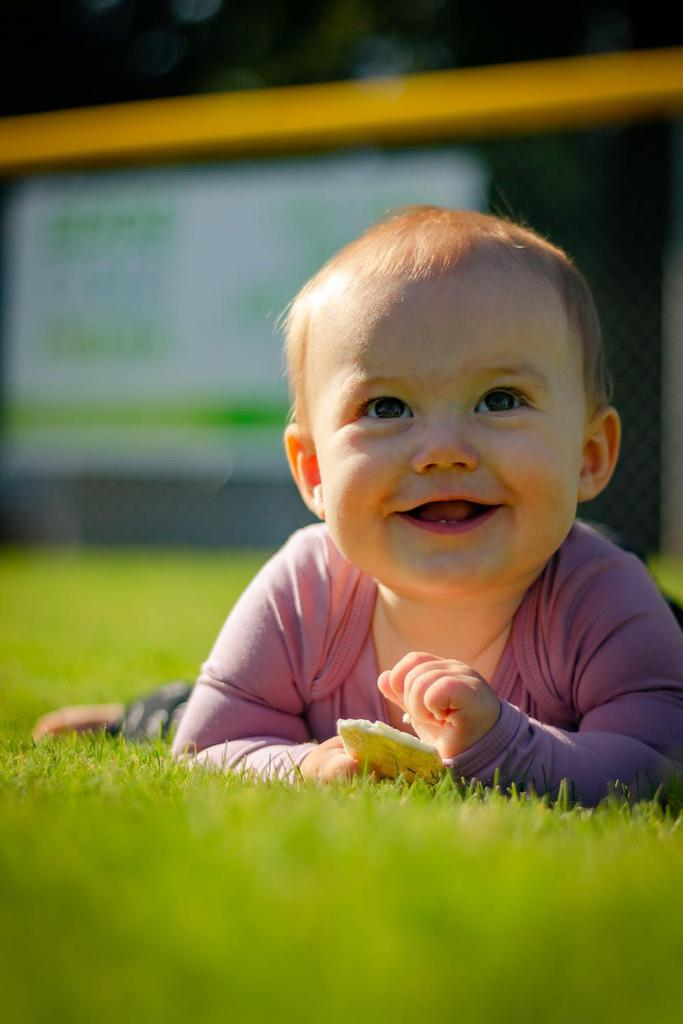child: (16, 197, 683, 851)
